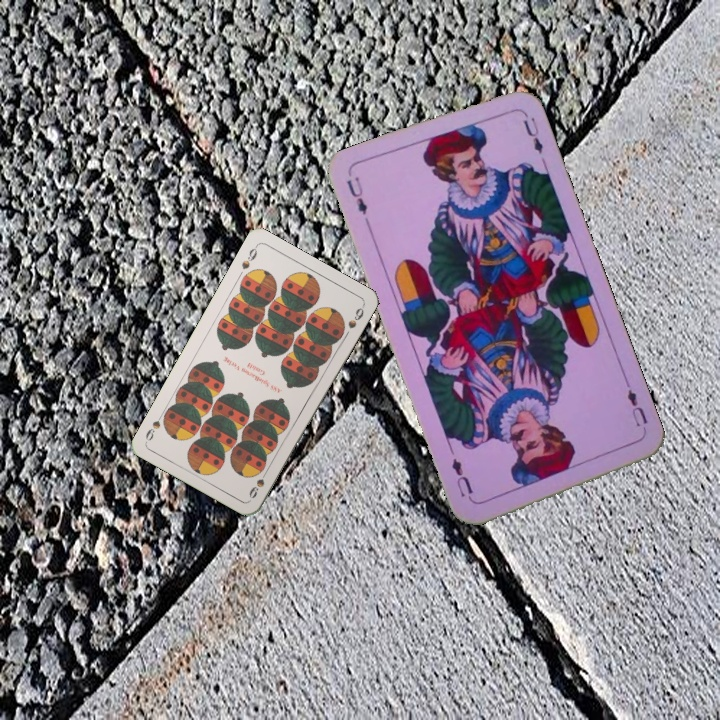EU: (623, 386, 650, 436), (342, 172, 370, 217)
S9: (245, 464, 272, 501), (237, 241, 260, 272)
